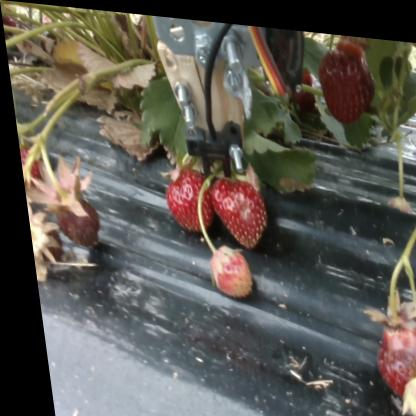ripe: (316, 36, 377, 121), (206, 170, 266, 244), (159, 163, 213, 232), (15, 143, 40, 184)
unripe: (200, 238, 250, 298)
